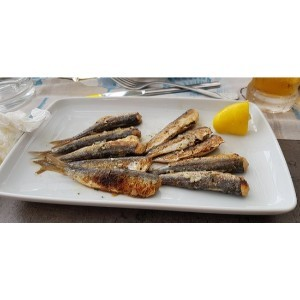sardine_brain food: (28, 110, 263, 190)
